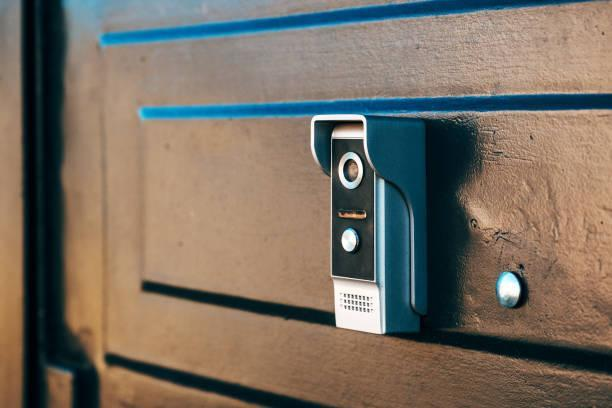camera: (287, 111, 413, 226)
